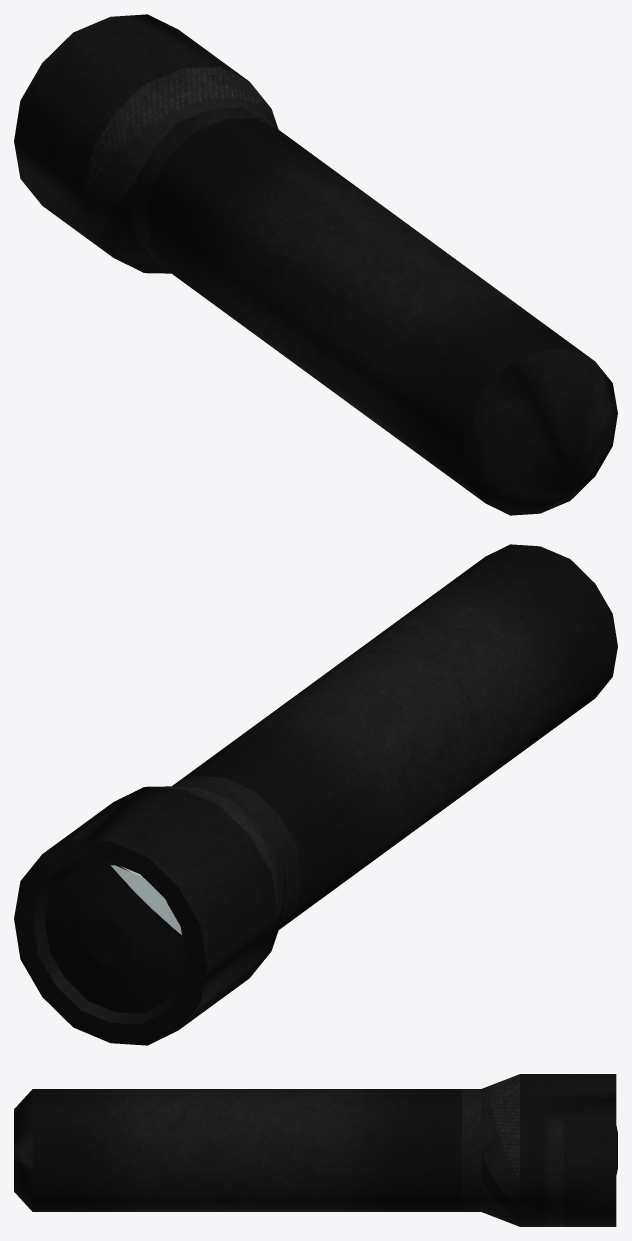
The model's file is Flashlight.fbx.
3 renders of one model, top to bottom at view 1: azimuth 30°, elevation 25°; view 2: azimuth 150°, elevation 25°; view 3: azimuth 270°, elevation 25°, orthographic. The views are drawn at different scales.
Parts seen in each view (by area): view 1: Flashlight_LP; view 2: Flashlight_LP; view 3: Flashlight_LP.
Boxes of the visible parts, bbox=[...] form: Flashlight_LP: bbox=[14, 14, 617, 515]; Flashlight_LP: bbox=[14, 544, 617, 1045]; Flashlight_LP: bbox=[14, 1074, 617, 1226].
Bounding box in the file's own units: 0.0294 × 0.1176 × 0.0294.
